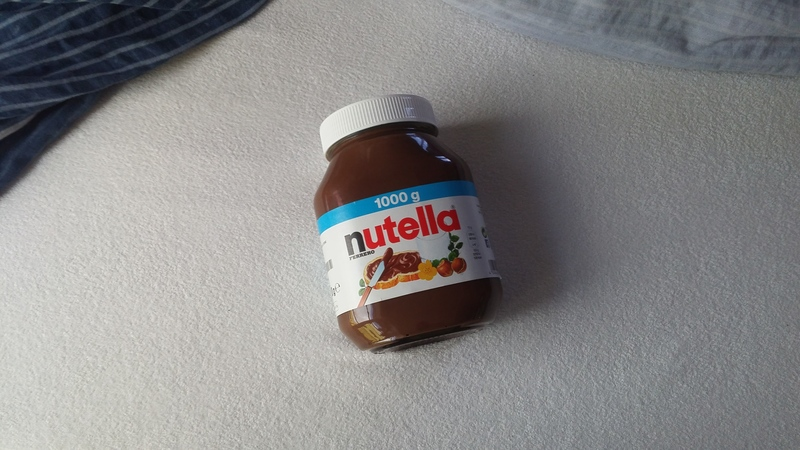nutella: (312, 94, 504, 354)
